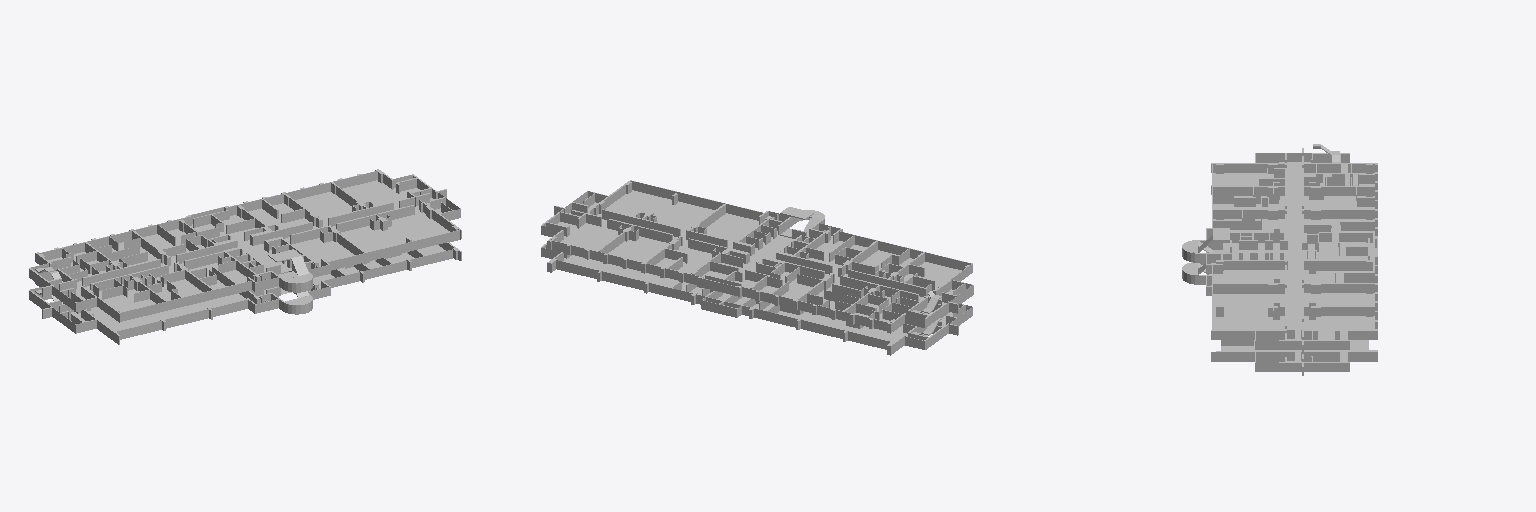
The model's file is oitava_versao_01.obj.
3 views of the same model, side by side, from view 1: azimuth 30°, elevation 25°; view 2: azimuth 150°, elevation 25°; view 3: azimuth 270°, elevation 25° (orthographic).
Size of the model in its own units: 64.28 by 6.66 by 27.01.